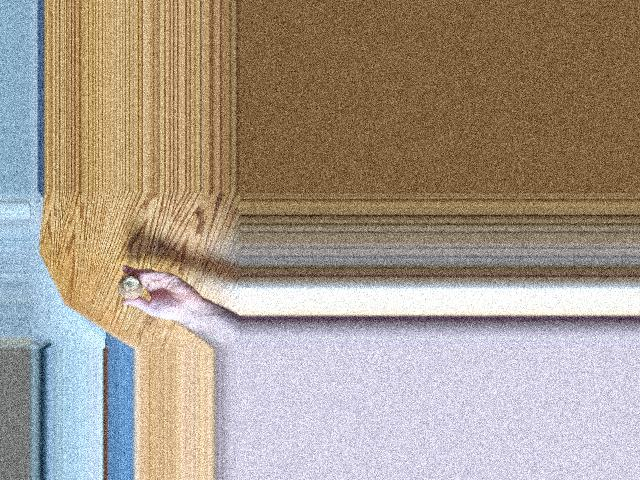sweet_potato: (117, 276, 139, 302)
